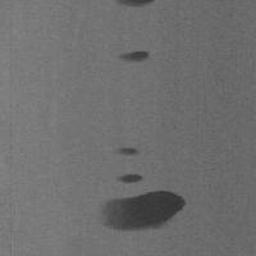Oil spot: (91, 188, 187, 233), (114, 49, 150, 64), (113, 0, 156, 10), (113, 172, 145, 184), (111, 146, 141, 157)
